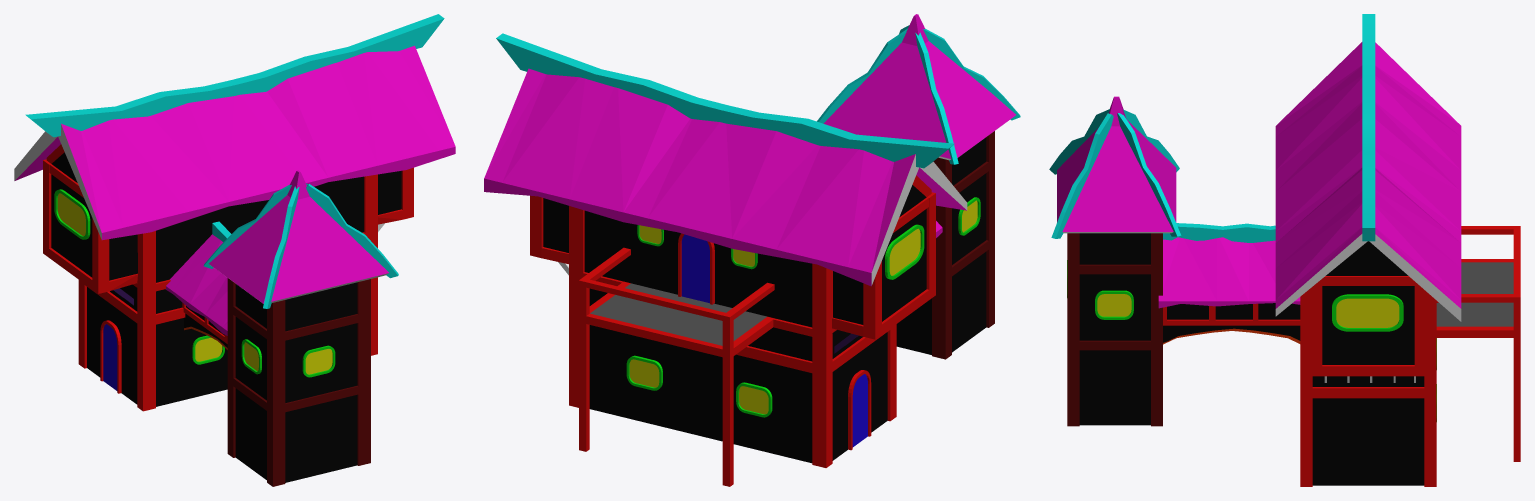
Rendered from 2nd House.fbx.
3 renders of one model, left to right at view 1: azimuth 30°, elevation 25°; view 2: azimuth 150°, elevation 25°; view 3: azimuth 270°, elevation 25°, orthographic. The views are drawn at different scales.
Visible parts, largest first — view 1: Box002; view 2: Box002; view 3: Box002.
Boxes of the visible parts, x1,y1,x2,y2 form: Box002: (14,14,455,486); Box002: (484,14,1020,486); Box002: (1049,14,1520,486).
Bounding box in the file's own units: 1196 × 804 × 1114.
